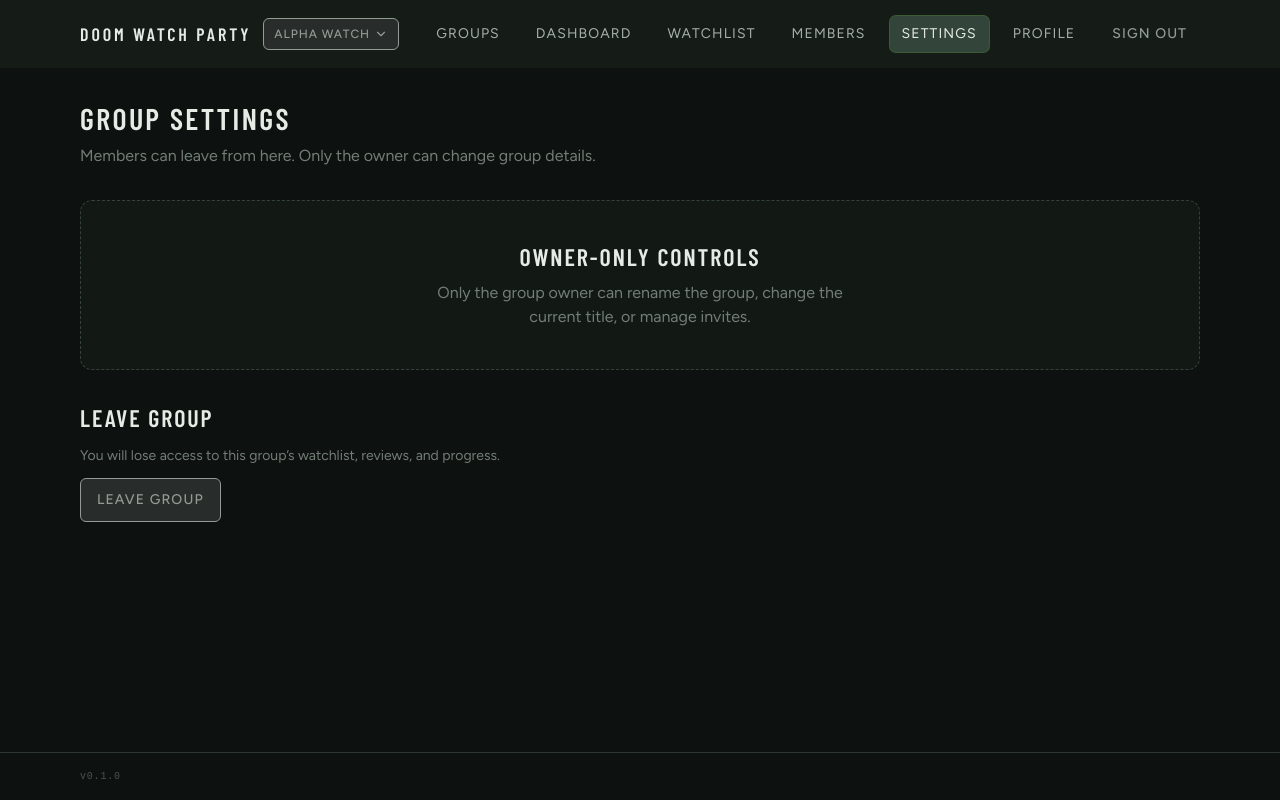
Test: group administration › lets a member leave the group
Click the button "Leave group": (150, 500) 80,478 -> 221,522
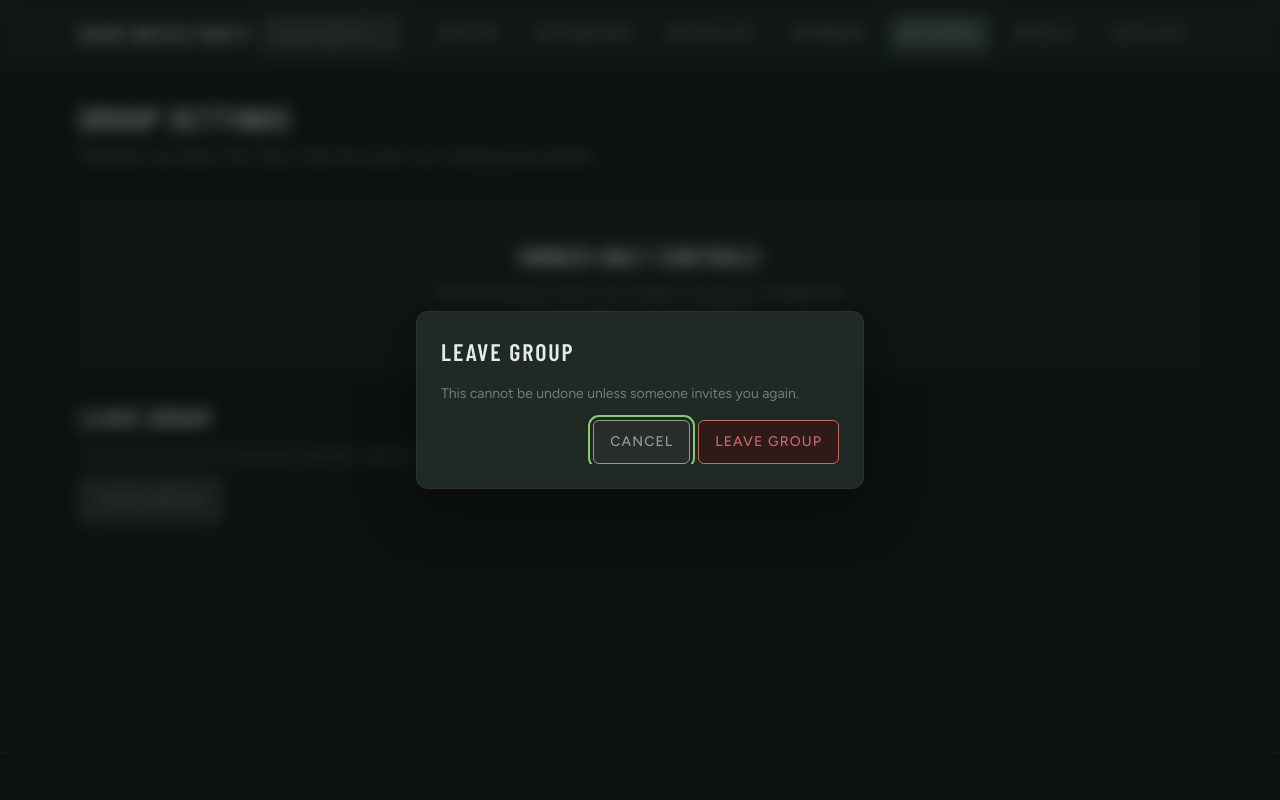
Click the button "Leave group": (769, 442) 698,420 -> 839,464
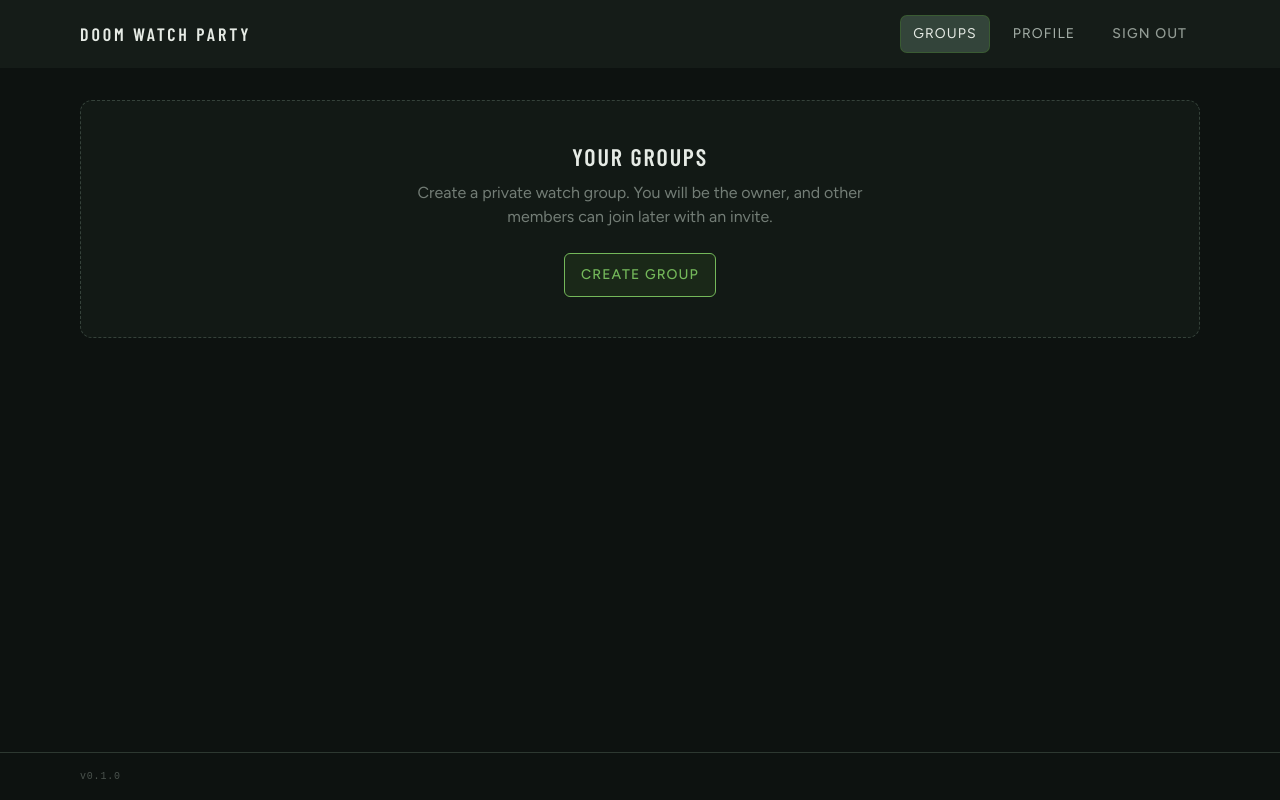
Result: the heading "Your groups" is shown at 572,142 -> 708,171
